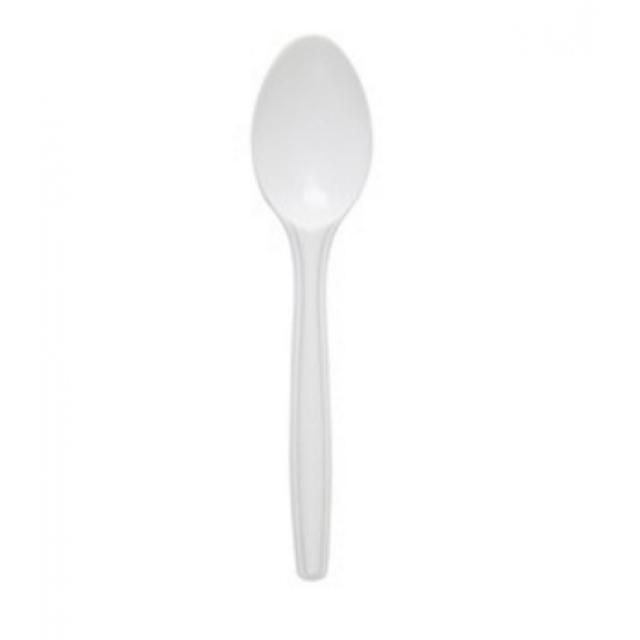spoon: (235, 28, 398, 591)
